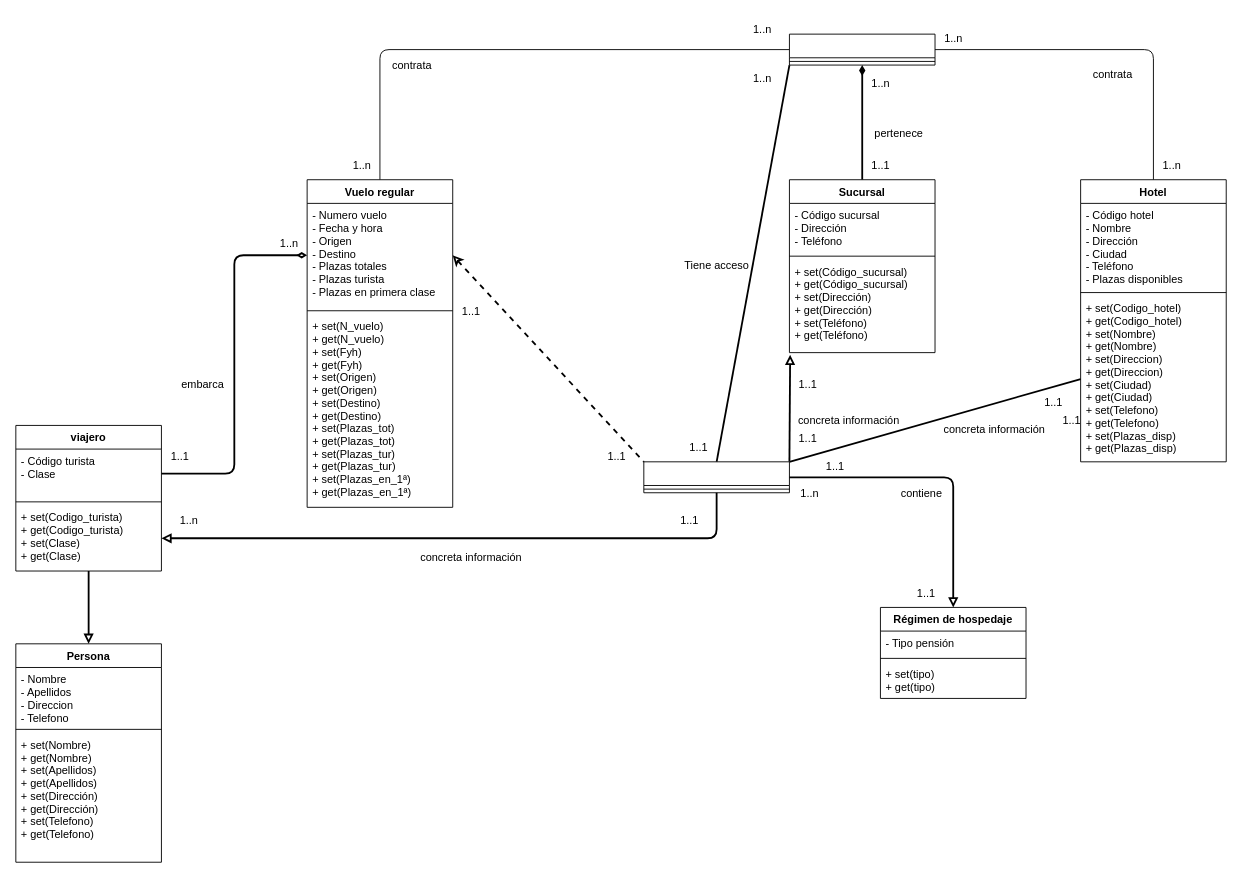
Image size: 1243x880. Some labels were removed from this diagram. The shapes that lost their labels are listed below. From the top down, each one's centre as x and y in pixels, then its label:
pixel 862 49: Cadena
pixel 716 477: Detalle viaje
